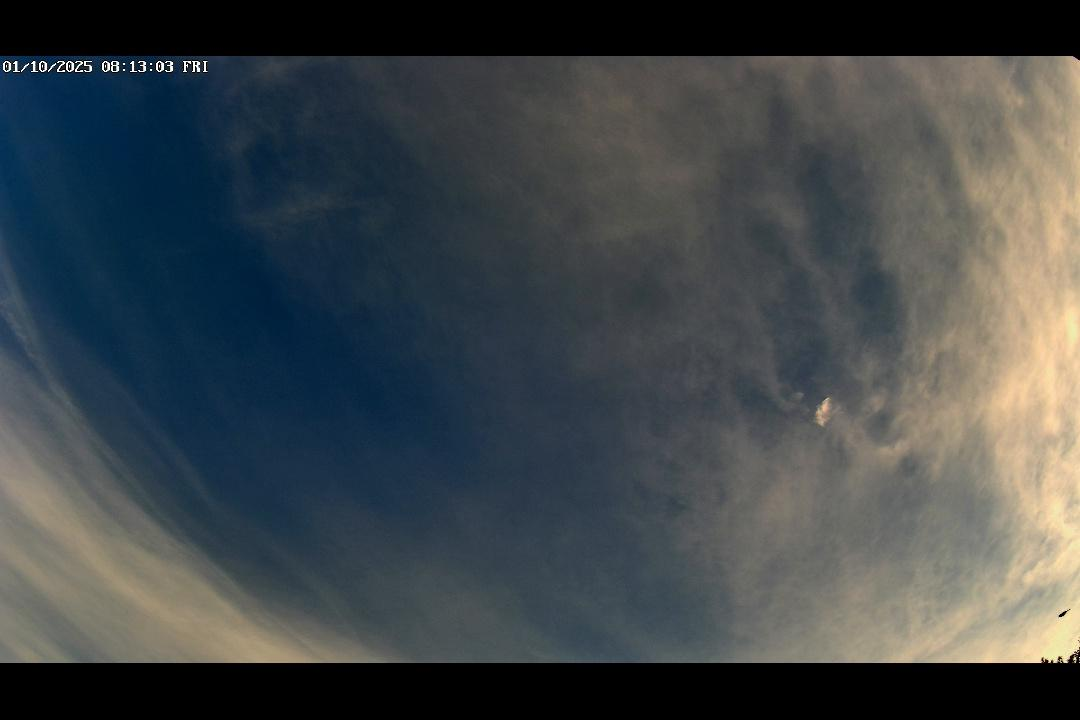WildLife: (1042, 602, 1079, 623)
